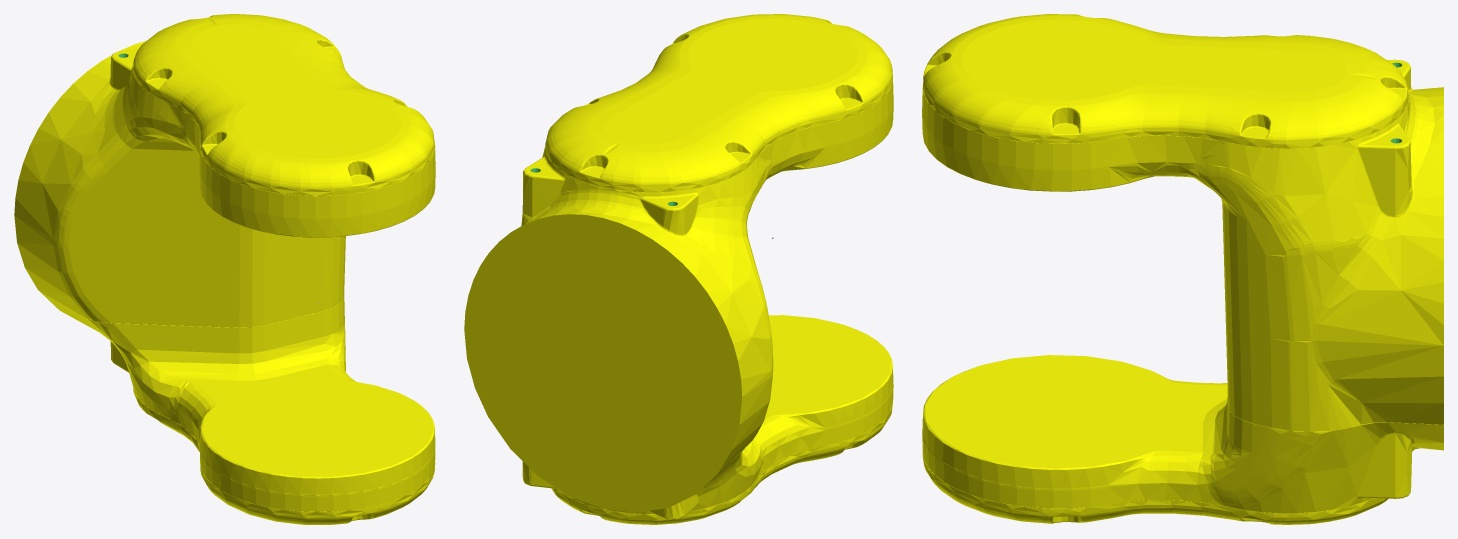
3 views of the same model, side by side, from view 1: azimuth 30°, elevation 25°; view 2: azimuth 150°, elevation 25°; view 3: azimuth 270°, elevation 25° (orthographic). The views are drawn at different scales.
Visible parts, largest first — view 1: node; view 2: node; view 3: node.
Boxes of the visible parts, x1,y1,x2,y2 form: node: (14,14,435,524); node: (464,14,893,524); node: (922,14,1443,524).
Bounding box in the file's own units: 150 × 190 × 215.
